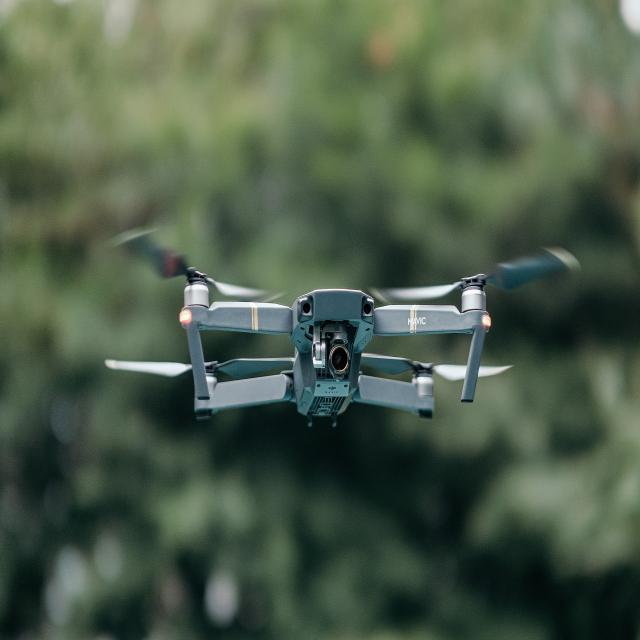drone: (82, 202, 593, 446)
